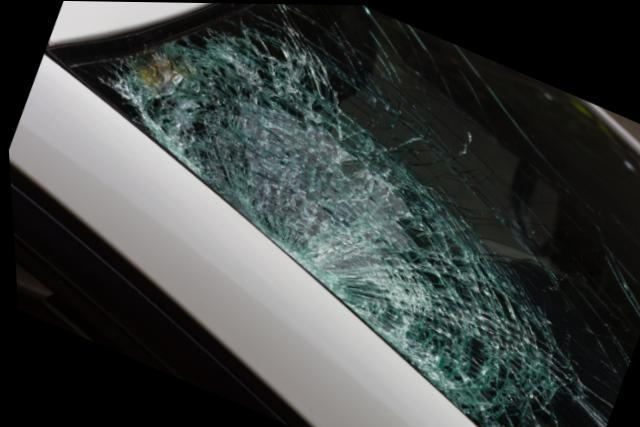glass shatter: (43, 2, 640, 427)
